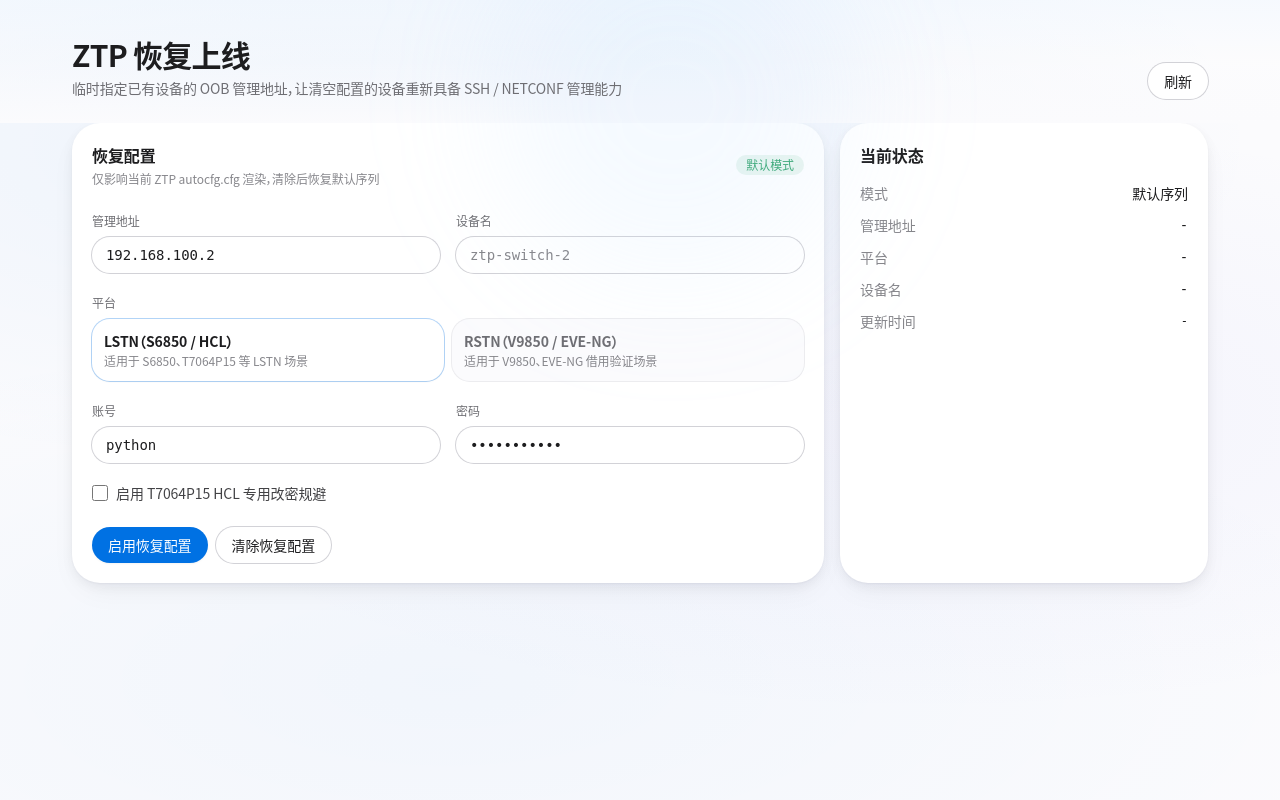
it: ZtpRecovery.vue › clears recovery override
Click the button "清除恢复配置" at [273, 544], box [216, 526, 331, 562]
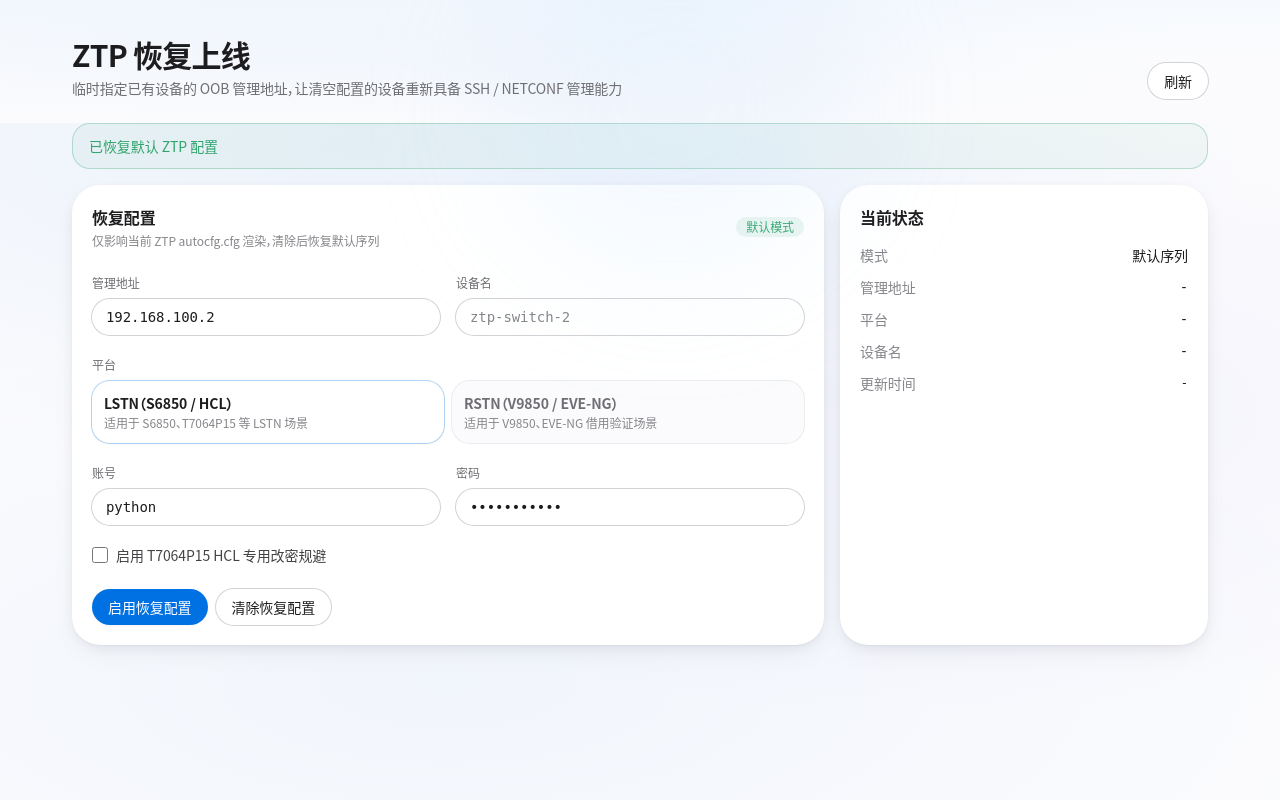
Check: the text "已恢复默认 ZTP 配置" is shown, box [72, 122, 1208, 168]
